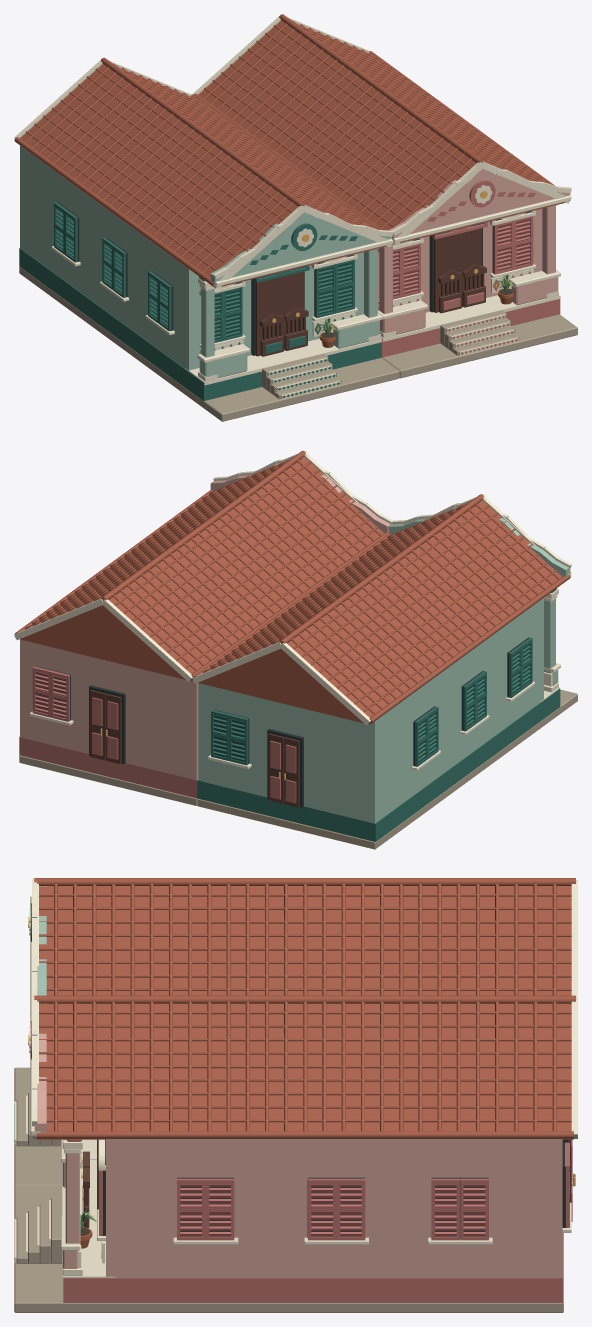
3 renders of one model, top to bottom at view 1: azimuth 30°, elevation 25°; view 2: azimuth 150°, elevation 25°; view 3: azimuth 270°, elevation 25°, orthographic. The views are drawn at different scales.
Parts seen in each view (by area): view 1: Pitched roof, Party-wall houses, Embossed stucco, Louvred shutters, Half-height teak gates, Stair treads, Encaustic tile frieze, Raking bargeboards, Radial fanlights, Potted pandan; view 2: Pitched roof, Party-wall houses, Louvred shutters, Entrance joinery, Raking bargeboards, Embossed stucco; view 3: Pitched roof, Party-wall houses, Louvred shutters, Embossed stucco, Stair treads, Raking bargeboards, Encaustic tile frieze.
Boxes of the visible parts, x1,y1,x2,y2 form: Pitched roof: (14, 14, 565, 288); Party-wall houses: (19, 145, 577, 421); Embossed stucco: (197, 161, 571, 381); Louvred shutters: (51, 202, 535, 347); Half-height teak gates: (260, 263, 486, 356); Stair treads: (262, 310, 519, 399); Encaustic tile frieze: (200, 268, 533, 398); Raking bargeboards: (14, 16, 569, 289); Radial fanlights: (199, 210, 535, 295); Potted pandan: (315, 275, 514, 347); Pitched roof: (15, 450, 570, 724); Party-wall houses: (19, 598, 577, 849); Louvred shutters: (29, 637, 534, 770); Entrance joinery: (89, 685, 303, 807); Raking bargeboards: (14, 454, 571, 725); Embossed stucco: (210, 451, 571, 692); Pitched roof: (34, 878, 575, 1139); Party-wall houses: (14, 1067, 563, 1312); Louvred shutters: (97, 1142, 571, 1244); Embossed stucco: (28, 878, 98, 1275); Stair treads: (16, 1093, 62, 1263); Raking bargeboards: (32, 880, 577, 1138); Encaustic tile frieze: (14, 1095, 104, 1263).
Bounding box in the file's own units: 12.4 × 6.18 × 12.23.
